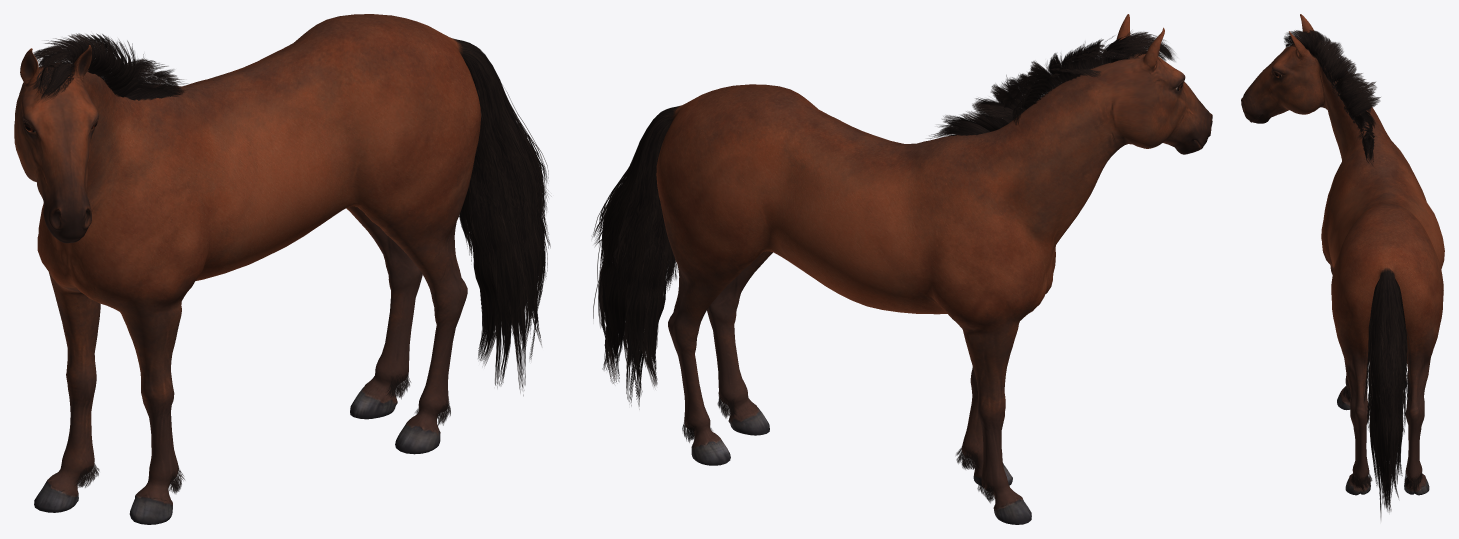
3 renders of one model, left to right at view 1: azimuth 30°, elevation 25°; view 2: azimuth 150°, elevation 25°; view 3: azimuth 270°, elevation 25°, orthographic. The views are drawn at different scales.
Parts seen in each view (by area): view 1: horse.2_2, horse_hair.3_3; view 2: horse.2_2, horse_hair.3_3; view 3: horse.2_2, horse_hair.3_3.
Boxes of the visible parts, x1,y1,x2,y2 form: horse.2_2: [14, 14, 482, 524]; horse_hair.3_3: [32, 33, 550, 493]; horse.2_2: [653, 14, 1212, 524]; horse_hair.3_3: [592, 31, 1175, 503]; horse.2_2: [1241, 14, 1444, 495]; horse_hair.3_3: [1284, 30, 1422, 518].
Size of the model in its own units: 3.77 by 3.19 by 1.72.
Materials: 2 (2 with a texture image).
